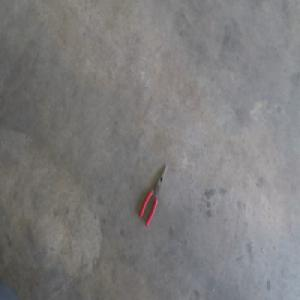Pliers: (138, 164, 168, 226)
